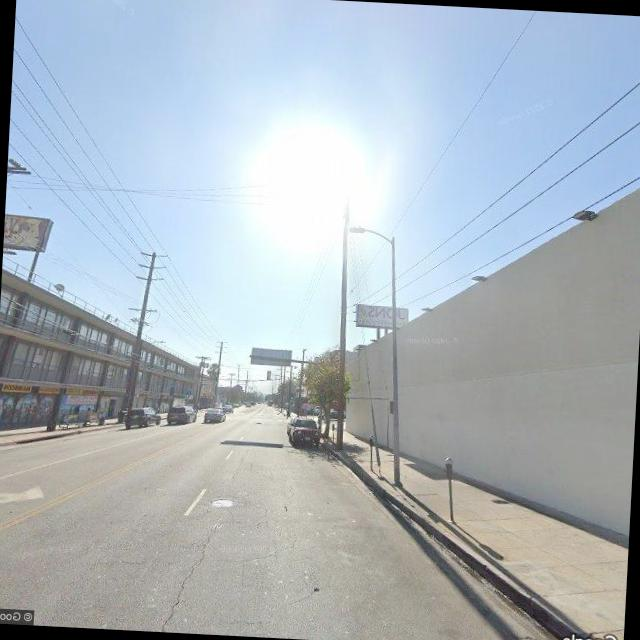pothole: (158, 519, 222, 634)
